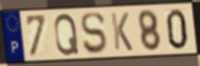0: (165, 7, 190, 51)
7: (25, 13, 48, 58)
8: (137, 8, 162, 54)
K: (109, 11, 134, 53)
Q: (53, 12, 81, 57)
S: (79, 11, 108, 56)
